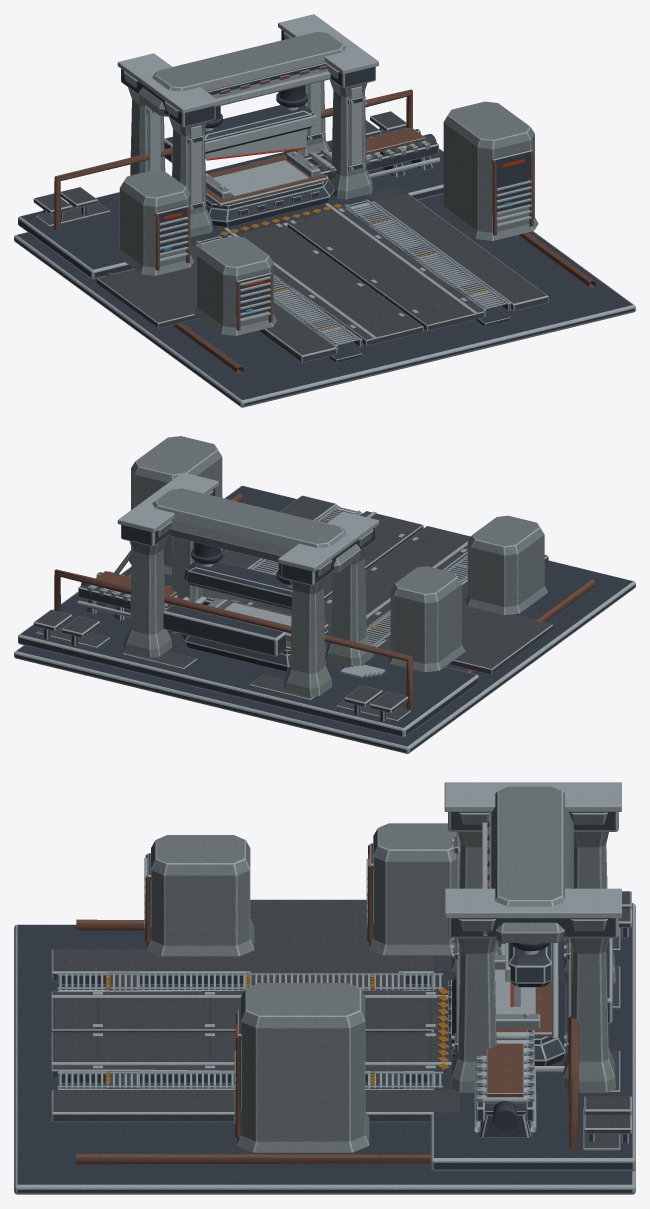
The model's file is CuttingFloor.fbx.
The picture shows the model from 3 angles, top to bottom: view 1: azimuth 30°, elevation 25°; view 2: azimuth 150°, elevation 25°; view 3: azimuth 270°, elevation 25°; orthographic projection. The views are drawn at different scales.
Visible parts, largest first — view 1: CS_fabrication_floor_0, CS_fabrication_floor_-1, CS_press_frame_1, CS_auxiliary_machinery_-1, CS_auxiliary_machinery_0, CS_work_center_1, CS_fabrication_floor_1, CS_press_frame_2, CS_fabrication_floor_-2, CS_auxiliary_machinery_2, CS_auxiliary_machinery_-2, CS_fabrication_floor_2; view 2: CS_press_frame_1, CS_fabrication_floor_0, CS_fabrication_floor_1, CS_auxiliary_machinery_-1, CS_auxiliary_machinery_0, CS_fabrication_floor_-1, CS_press_frame_2, CS_auxiliary_machinery_2, CS_work_center_1, CS_fabrication_floor_2, CS_fabrication_floor_-2; view 3: CS_fabrication_floor_0, CS_fabrication_floor_-1, CS_auxiliary_machinery_-1, CS_press_frame_1, CS_auxiliary_machinery_0, CS_fabrication_floor_1, CS_work_center_1, CS_press_frame_2, CS_auxiliary_machinery_2, CS_fabrication_floor_-2, CS_fabrication_floor_2, CS_work_center_0 (+1 smaller).
Part boxes in pixels (left/top/right/bottom): CS_fabrication_floor_0: left=14, top=194, right=635, bottom=407; CS_fabrication_floor_-1: left=190, top=186, right=548, bottom=363; CS_press_frame_1: left=117, top=14, right=378, bottom=237; CS_auxiliary_machinery_-1: left=193, top=101, right=538, bottom=335; CS_auxiliary_machinery_0: left=54, top=89, right=595, bottom=373; CS_work_center_1: left=205, top=128, right=440, bottom=227; CS_fabrication_floor_1: left=18, top=128, right=443, bottom=279; CS_press_frame_2: left=123, top=32, right=330, bottom=175; CS_fabrication_floor_-2: left=285, top=265, right=501, bottom=339; CS_auxiliary_machinery_2: left=33, top=111, right=406, bottom=220; CS_auxiliary_machinery_-2: left=235, top=272, right=272, bottom=330; CS_fabrication_floor_2: left=36, top=130, right=400, bottom=226; CS_press_frame_1: left=114, top=472, right=378, bottom=666; CS_fabrication_floor_0: left=14, top=486, right=635, bottom=753; CS_fabrication_floor_1: left=18, top=592, right=478, bottom=737; CS_auxiliary_machinery_-1: left=129, top=436, right=547, bottom=615; CS_auxiliary_machinery_0: left=54, top=493, right=595, bottom=709; CS_fabrication_floor_-1: left=208, top=495, right=548, bottom=662; CS_press_frame_2: left=123, top=520, right=332, bottom=696; CS_auxiliary_machinery_2: left=33, top=605, right=408, bottom=721; CS_work_center_1: left=77, top=571, right=330, bottom=672; CS_fabrication_floor_2: left=36, top=626, right=410, bottom=721; CS_fabrication_floor_-2: left=315, top=511, right=467, bottom=582; CS_fabrication_floor_0: left=14, top=899, right=635, bottom=1194; CS_fabrication_floor_-1: left=51, top=949, right=459, bottom=1122; CS_auxiliary_machinery_-1: left=147, top=835, right=369, bottom=1152; CS_press_frame_1: left=444, top=782, right=621, bottom=1092; CS_auxiliary_machinery_0: left=76, top=823, right=578, bottom=1164; CS_fabrication_floor_1: left=430, top=903, right=635, bottom=1171; CS_work_center_1: left=448, top=955, right=565, bottom=1137; CS_press_frame_2: left=563, top=812, right=615, bottom=1092; CS_auxiliary_machinery_2: left=584, top=891, right=631, bottom=1143; CS_fabrication_floor_-2: left=77, top=972, right=197, bottom=1089; CS_fabrication_floor_2: left=583, top=928, right=620, bottom=1150; CS_work_center_0: left=437, top=988, right=448, bottom=1069.
Bounding box in the file's own units: 20 × 7.85 × 20.
